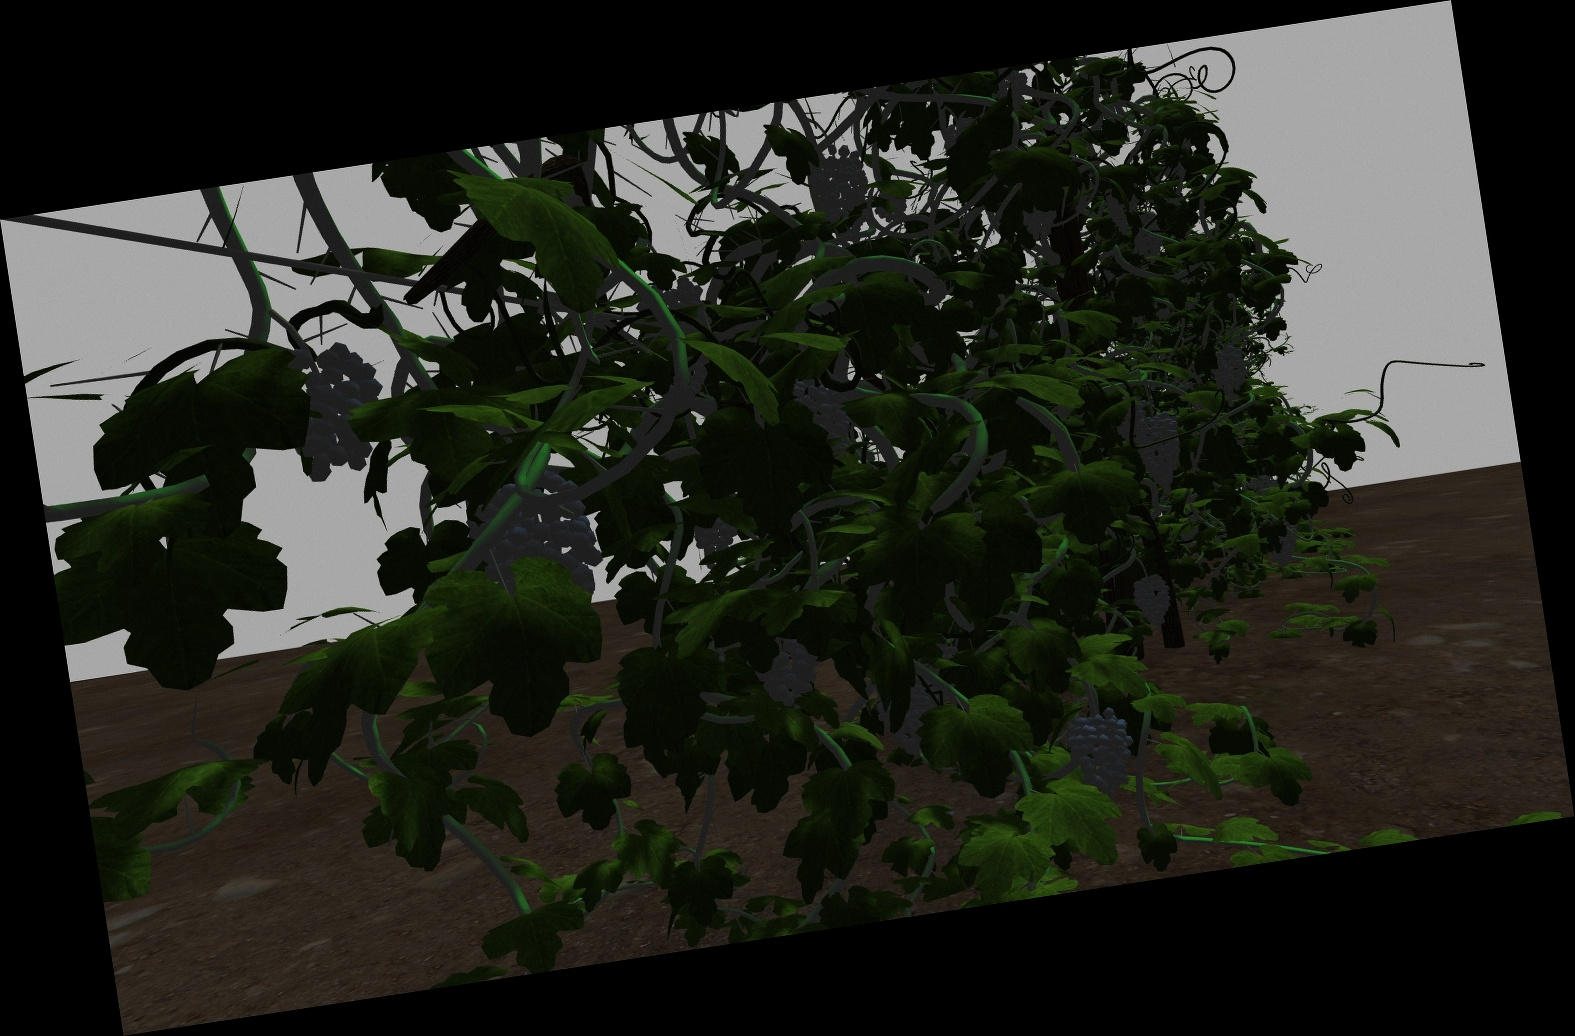grape: (472, 469, 597, 601), (291, 340, 384, 479), (812, 146, 873, 249), (1069, 710, 1136, 801), (754, 636, 823, 709), (1136, 415, 1186, 502), (1133, 573, 1173, 632), (1211, 345, 1248, 400), (1107, 185, 1141, 238), (1132, 212, 1164, 264), (1269, 521, 1301, 567)
